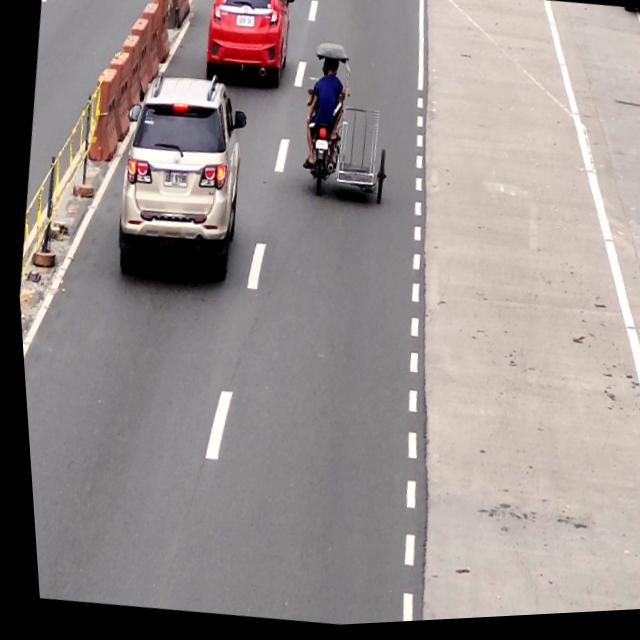Car: (102, 69, 252, 289), (196, 0, 299, 93)
License-Plate: (160, 171, 187, 191), (234, 14, 257, 33), (312, 141, 328, 155)
Tricycle: (285, 39, 401, 217)
